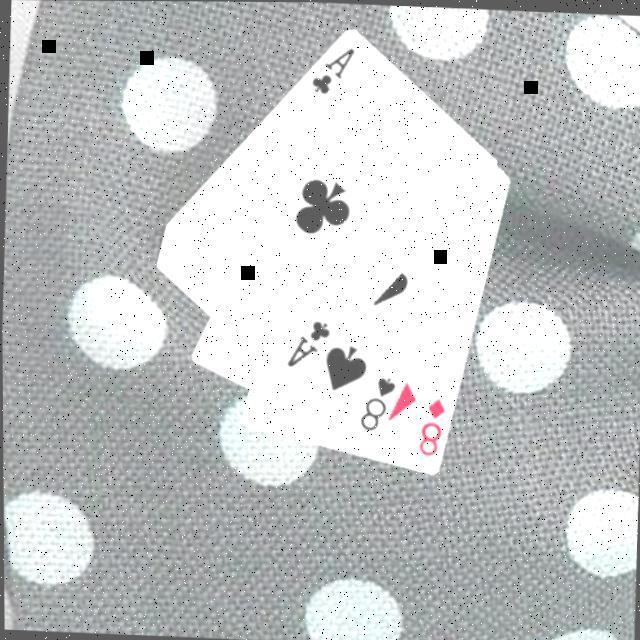8D: (413, 393, 447, 458)
8S: (353, 371, 398, 433)
AC: (280, 314, 332, 371), (306, 42, 358, 98)
